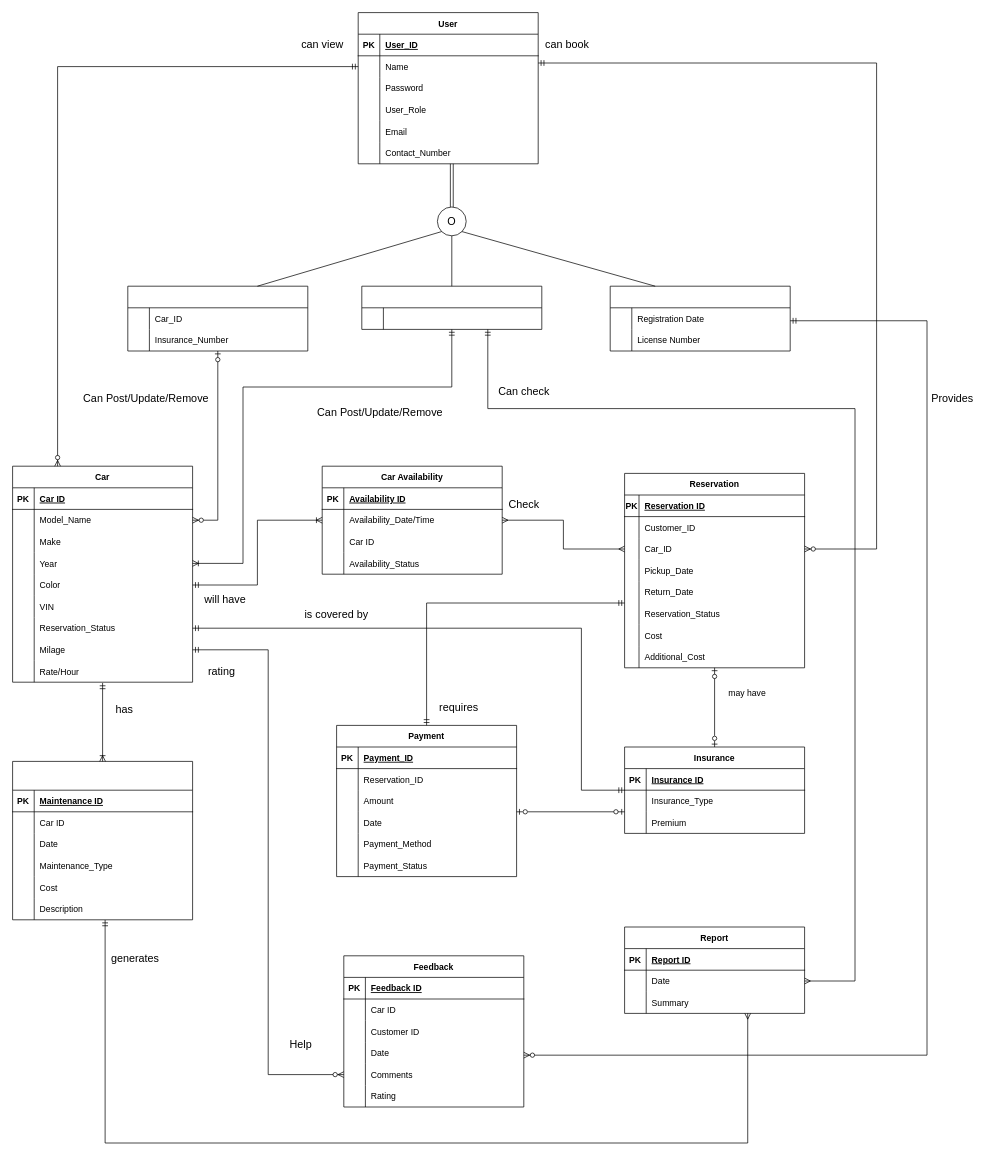
Image size: 994x1162. Some labels were removed from this diagram. Here are the shapes that lost their labels. From the top down, the box of each, then its label:
(127, 285, 308, 351): Car Lender
(361, 285, 542, 329): Administrator
(609, 285, 790, 351): Customer
(12, 761, 193, 920): Maintenance Log
